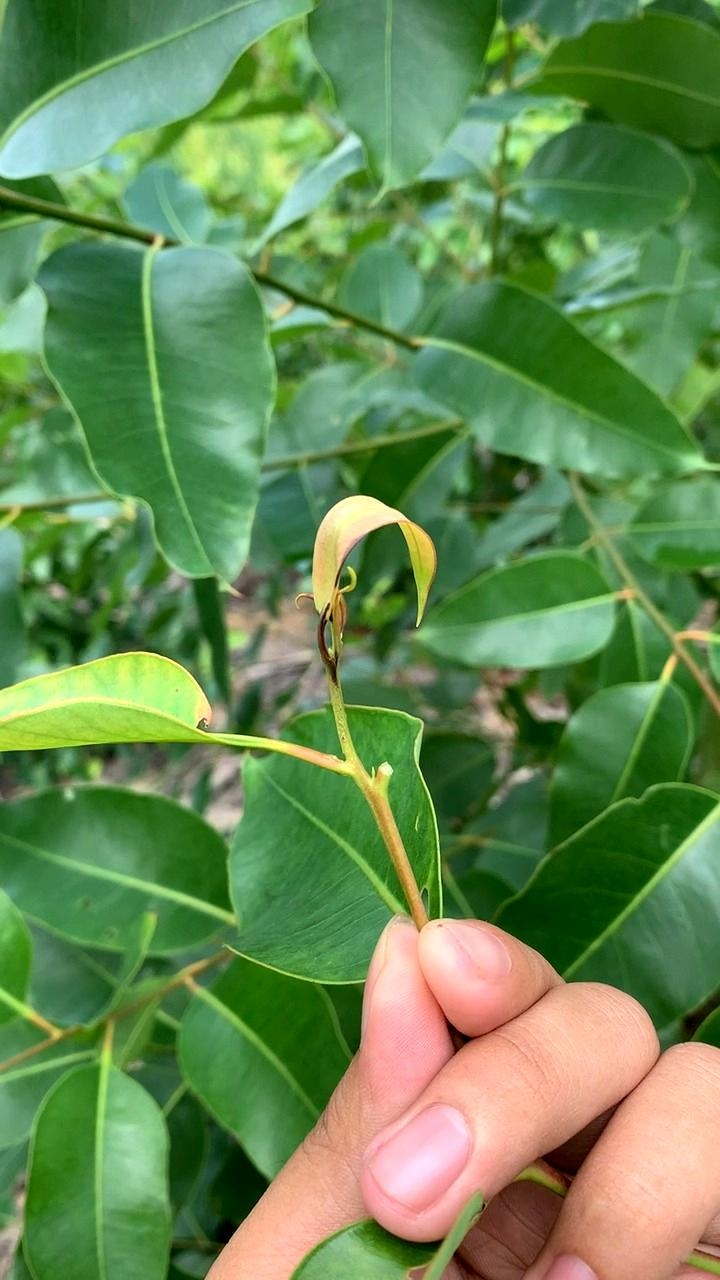Helopeltis-Withered Sprout: (303, 488, 437, 644)
